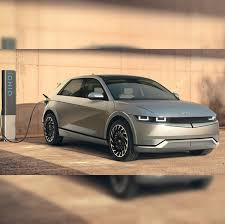Honda Ioniq: (39, 73, 225, 163)
